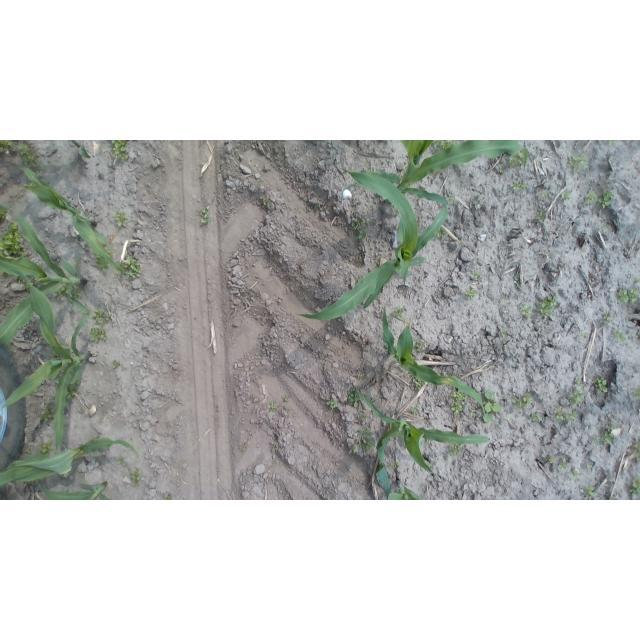Maize: (299, 169, 449, 321), (1, 275, 92, 454), (361, 393, 491, 495), (342, 141, 530, 209), (20, 166, 133, 276), (0, 204, 88, 343), (382, 303, 487, 416), (0, 439, 138, 490), (35, 480, 110, 500), (389, 478, 422, 500), (69, 141, 91, 160)
Weeds: (0, 221, 24, 260), (355, 413, 376, 451), (117, 256, 143, 279), (483, 390, 501, 422), (536, 295, 558, 318), (17, 145, 39, 168), (348, 217, 368, 239), (617, 288, 640, 305), (111, 140, 130, 160), (569, 153, 589, 171), (451, 391, 466, 414), (348, 386, 363, 409), (598, 190, 615, 210), (93, 307, 112, 324), (595, 428, 614, 445), (554, 408, 577, 422), (591, 376, 608, 394), (568, 389, 585, 406), (94, 254, 110, 272), (508, 152, 528, 166), (90, 327, 107, 343), (53, 285, 70, 301), (629, 476, 640, 500), (41, 405, 55, 423), (433, 140, 458, 150), (0, 141, 16, 156), (519, 393, 533, 410), (129, 467, 141, 486), (583, 485, 598, 500), (115, 210, 129, 226), (38, 439, 54, 453), (199, 207, 210, 225), (66, 384, 79, 399), (510, 178, 526, 190), (448, 444, 462, 457), (614, 329, 627, 343), (466, 288, 479, 301), (520, 303, 532, 317), (585, 191, 597, 205), (392, 306, 405, 318), (326, 398, 339, 410), (22, 280, 34, 293), (412, 378, 424, 390), (601, 312, 614, 323), (72, 287, 85, 298), (401, 175, 411, 189), (634, 441, 640, 464), (571, 469, 582, 481), (414, 342, 426, 353), (530, 411, 542, 422), (561, 190, 572, 201), (508, 392, 518, 404), (574, 377, 585, 387), (539, 188, 550, 198), (111, 359, 122, 369), (0, 209, 10, 219), (537, 210, 547, 220), (411, 405, 421, 415), (117, 458, 128, 467), (269, 402, 278, 413), (6, 342, 17, 351), (105, 247, 114, 258), (514, 275, 521, 289), (559, 461, 568, 471), (438, 227, 447, 237), (546, 454, 555, 464), (260, 196, 270, 205), (240, 443, 249, 453), (632, 389, 640, 400), (499, 327, 507, 338), (586, 462, 595, 471), (472, 271, 481, 280), (600, 223, 609, 232), (498, 163, 506, 173), (390, 461, 400, 469), (469, 407, 477, 417), (271, 441, 277, 453), (365, 167, 375, 174), (164, 492, 172, 500), (348, 447, 356, 455), (13, 275, 21, 283), (282, 395, 290, 403), (357, 372, 365, 379), (580, 331, 587, 338), (74, 261, 82, 267), (607, 141, 616, 146), (447, 198, 453, 205), (315, 203, 321, 209), (636, 329, 640, 338), (501, 296, 508, 301), (636, 278, 640, 282)
